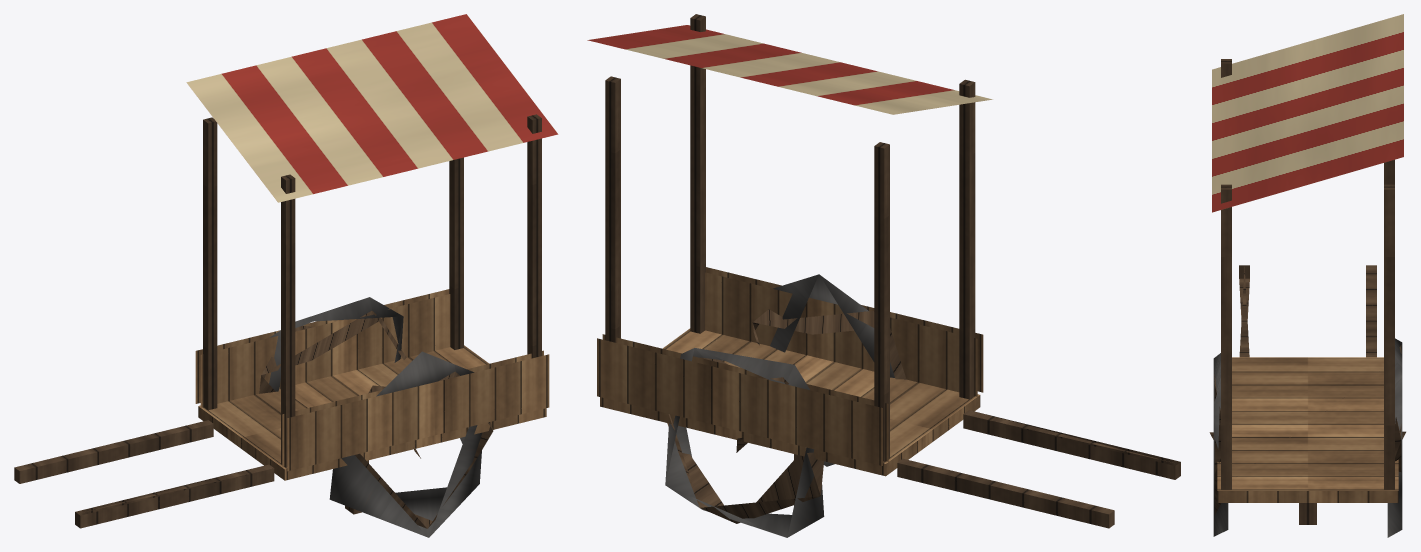
Rendered from Stall_Cart_Empty_LOD2.gltf.
3 renders of one model, left to right at view 1: azimuth 30°, elevation 25°; view 2: azimuth 150°, elevation 25°; view 3: azimuth 270°, elevation 25°, orthographic. The views are drawn at different scales.
Parts seen in each view (by area): view 1: Stall_Cart_Empty_LOD2; view 2: Stall_Cart_Empty_LOD2; view 3: Stall_Cart_Empty_LOD2.
Part boxes in pixels (x1,y1,x2,y2): Stall_Cart_Empty_LOD2: (14,14,558,537); Stall_Cart_Empty_LOD2: (587,14,1180,537); Stall_Cart_Empty_LOD2: (1209,14,1405,537).
Bounding box in the file's own units: 3.02 × 2.64 × 1.06.
Materials: 4 (4 with a texture image).
